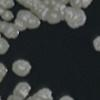white: (9, 58, 32, 77), (33, 86, 55, 100), (3, 24, 21, 41), (88, 31, 100, 54), (25, 14, 42, 30), (17, 9, 33, 24), (0, 36, 11, 57), (12, 18, 27, 33), (14, 80, 32, 91), (12, 88, 30, 99), (1, 9, 15, 22), (0, 60, 7, 84), (0, 19, 10, 34), (23, 94, 47, 100), (57, 93, 75, 100), (6, 94, 25, 100), (5, 0, 16, 9), (0, 5, 6, 17), (0, 0, 9, 8), (0, 93, 4, 100)
